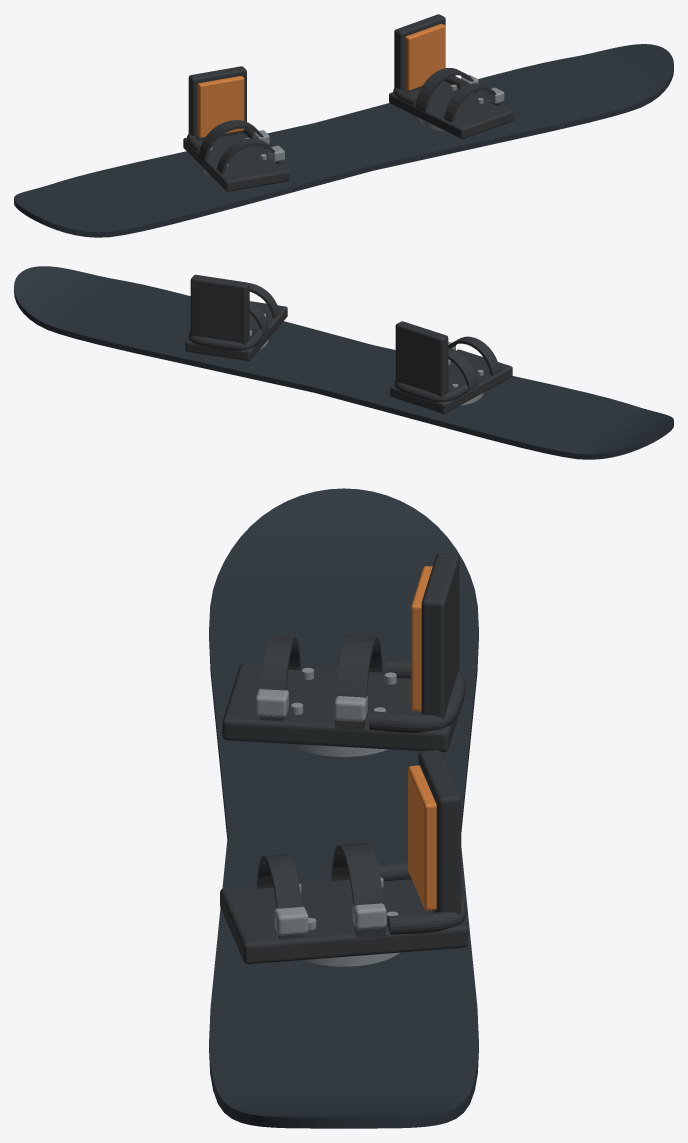
The model's file is full.fbx.
The picture shows the model from 3 angles, top to bottom: view 1: azimuth 30°, elevation 25°; view 2: azimuth 150°, elevation 25°; view 3: azimuth 270°, elevation 25°; orthographic projection. The views are drawn at different scales.
Visible parts, largest first — view 1: Waisted snowboard, Binding base 1, Binding base 0, Heel cushion 0, Heel cushion 1, Highback 0, Highback 1, Open ankle strap 1, Open ankle strap 0, Open toe strap 1, Open toe strap 0, Heel cup 1; view 2: Waisted snowboard, Highback 1, Highback 0, Binding base 0, Binding base 1, Heel cup 1, Heel cup 0, Open toe strap 0, Open ankle strap 0, Open toe strap 1, Open ankle strap 1; view 3: Waisted snowboard, Binding base 1, Binding base 0, Highback 0, Highback 1, Heel cushion 1, Open ankle strap 1, Open ankle strap 0, Heel cup 0, Heel cup 1, Open toe strap 1, Open toe strap 0 (+1 smaller).
Boxes of the visible parts, x1,y1,x2,y2 form: Waisted snowboard: (14,44,673,237); Binding base 1: (389,81,513,139); Binding base 0: (183,133,289,191); Heel cushion 0: (197,76,244,137); Heel cushion 1: (405,23,445,90); Highback 0: (188,66,246,141); Highback 1: (394,14,445,93); Open ankle strap 1: (415,68,477,111); Open ankle strap 0: (199,120,266,160); Open toe strap 1: (444,83,500,122); Open toe strap 0: (217,138,280,174); Heel cup 1: (393,76,462,105); Waisted snowboard: (14,266,673,459); Highback 1: (190,274,249,344); Highback 0: (395,321,448,397); Binding base 0: (390,349,512,413); Binding base 1: (185,301,287,361); Heel cup 1: (188,328,263,350); Heel cup 0: (394,381,468,402); Open toe strap 0: (448,336,499,375); Open ankle strap 0: (448,348,478,390); Open toe strap 1: (249,283,279,317); Open ankle strap 1: (249,301,268,335); Waisted snowboard: (209,488,478,1128); Binding base 1: (220,879,467,964); Binding base 0: (222,663,465,752); Highback 0: (421,553,459,718); Highback 1: (418,750,461,914); Heel cushion 1: (408,765,436,910); Open ankle strap 1: (331,842,385,938); Open ankle strap 0: (335,635,382,730); Heel cup 0: (369,660,465,732); Heel cup 1: (378,862,466,934); Open toe strap 1: (257,854,303,939); Open toe strap 0: (259,636,300,720).
Bounding box in the file's own units: 150 × 18.8 × 27.18.
